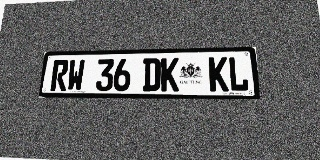3: (96, 59, 114, 91)
6: (113, 58, 131, 91)
D: (142, 58, 161, 91)
K: (209, 57, 229, 91), (161, 58, 179, 91)
L: (228, 56, 249, 91)
R: (50, 60, 69, 91)
W: (66, 59, 85, 91)
